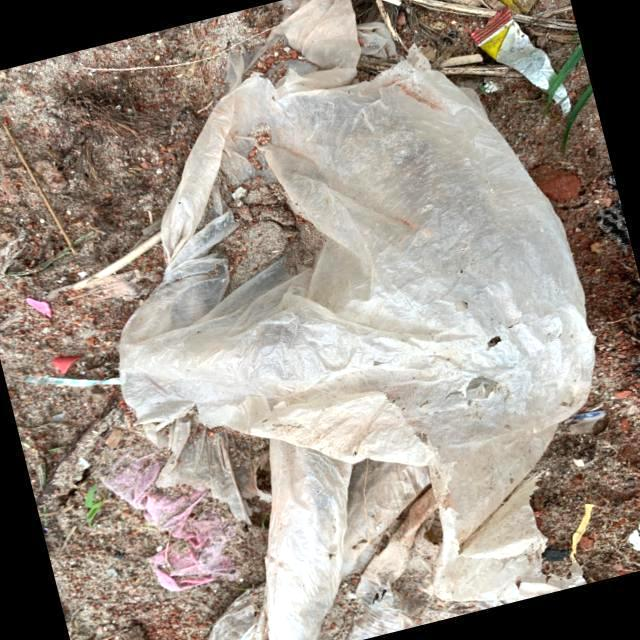polythene: (30, 0, 640, 640)
